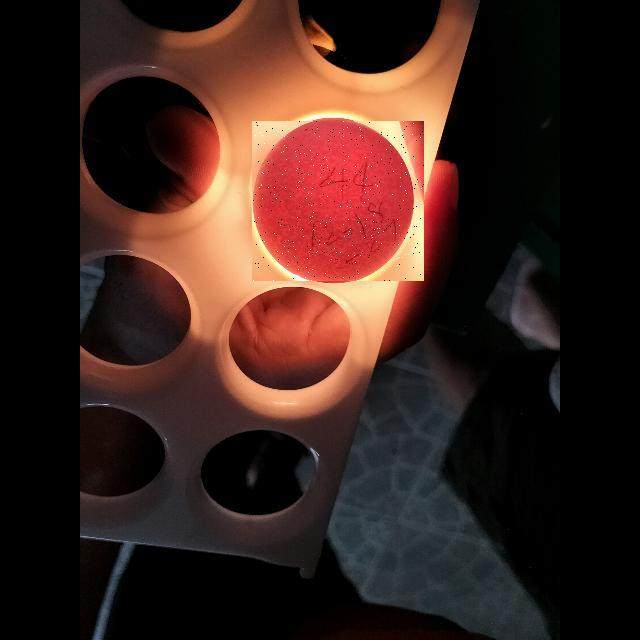Infertile: (252, 121, 424, 281)
